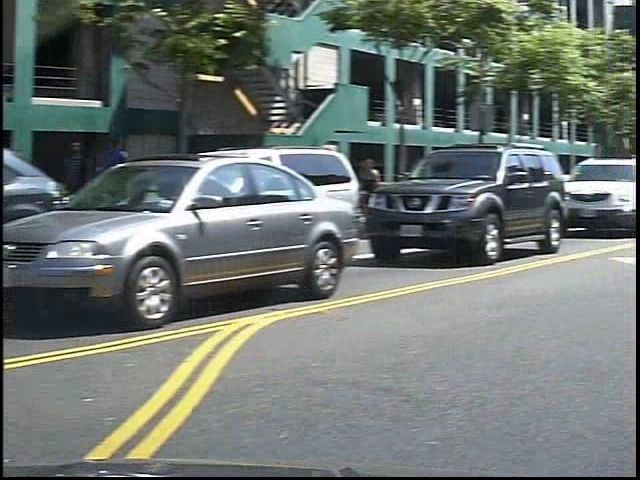person: (104, 130, 155, 255), (369, 155, 398, 231)
